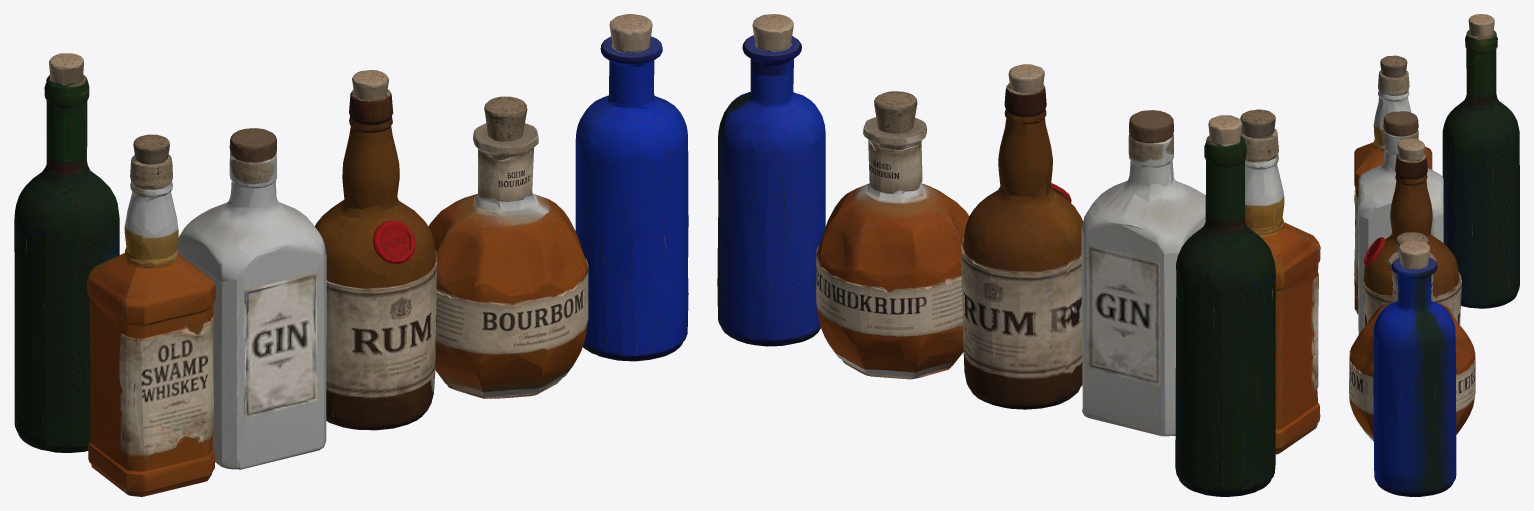
File: sp_m_bottles.glb
3 renders of one model, left to right at view 1: azimuth 30°, elevation 25°; view 2: azimuth 150°, elevation 25°; view 3: azimuth 270°, elevation 25°, orthographic. The views are drawn at different scales.
Visible parts, largest first — view 1: Mesh_0; view 2: Mesh_0; view 3: Mesh_0.
Part boxes in pixels (x1,y1,x2,y2): Mesh_0: [14, 14, 688, 496]; Mesh_0: [717, 14, 1320, 496]; Mesh_0: [1349, 14, 1519, 496].
Bounding box in the file's own units: 1.9 × 1.11 × 0.6226.
1 material, 1 textured.
